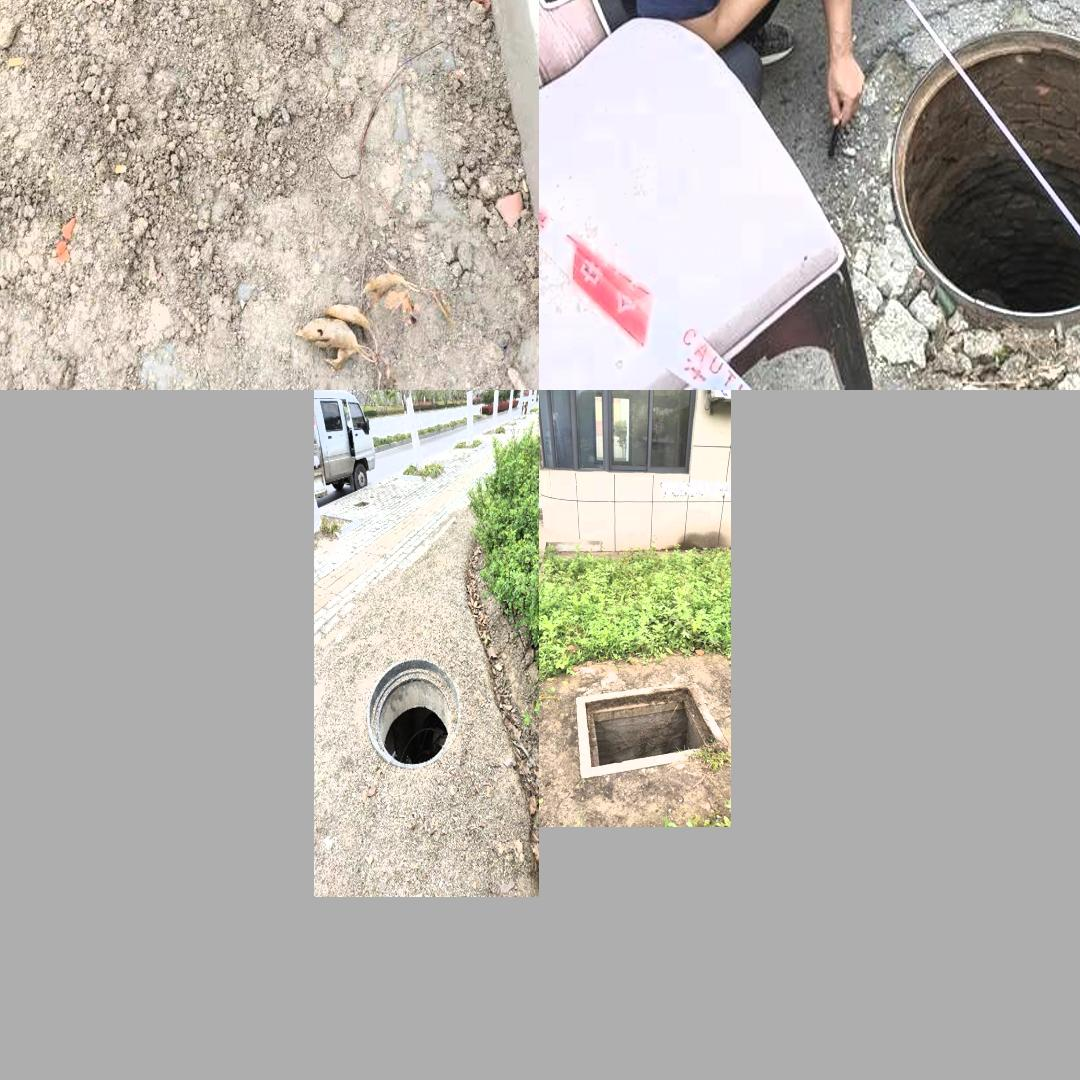lose: (886, 17, 1080, 326), (575, 680, 728, 781), (367, 657, 460, 768)
